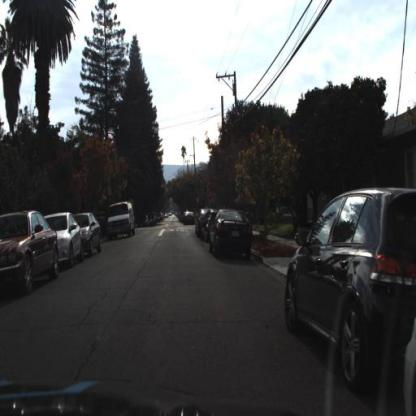car: (284, 186, 416, 391), (0, 209, 59, 292), (40, 206, 88, 269), (207, 206, 252, 258), (46, 209, 82, 264), (66, 207, 106, 256), (104, 196, 139, 240), (77, 209, 102, 257), (106, 201, 134, 239), (272, 201, 294, 225), (203, 208, 216, 243), (197, 212, 210, 240), (138, 213, 150, 229), (184, 210, 196, 226)
